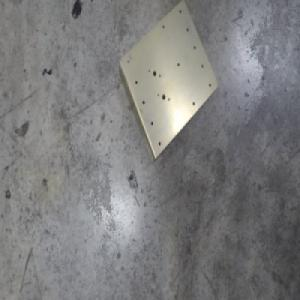MetalSheet: (116, 0, 218, 163)
